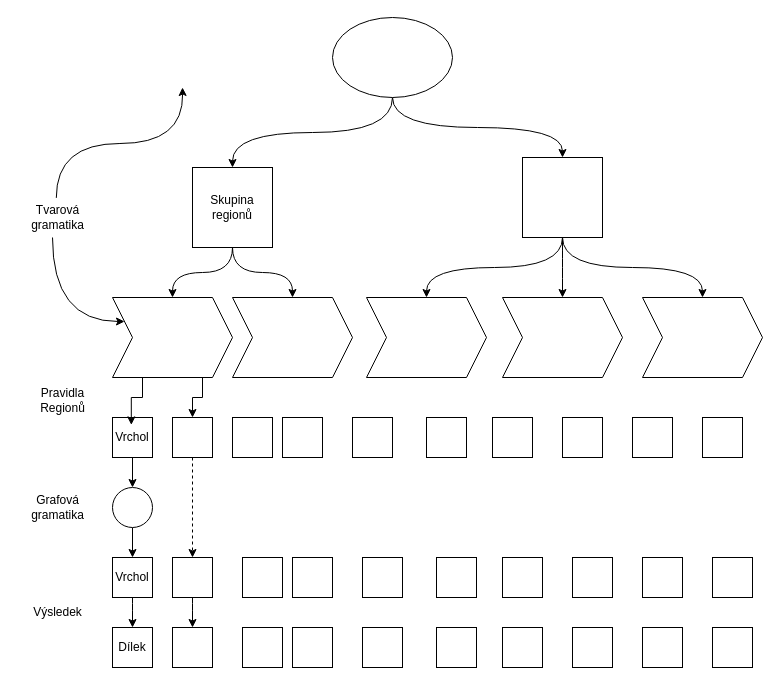
Some shapes in this 780 by 685 pixel diagram are drawn without their labels. Here are the shapes that lost their labels. From the top down, the centre of each, then its label:
the point at 392,57: Trať
the point at 172,337: Region
